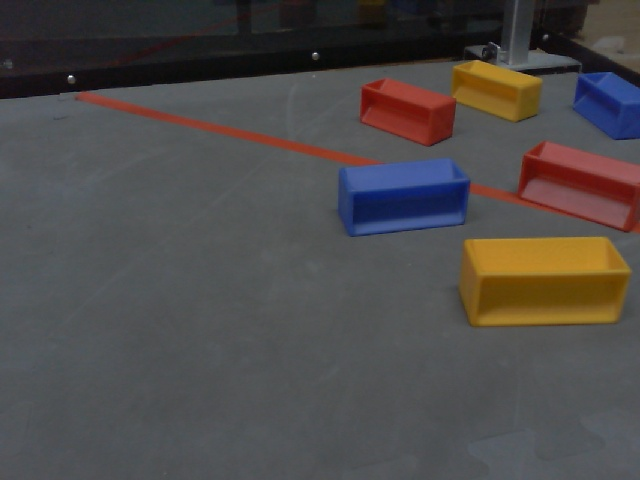BlueSample: (335, 157, 470, 238), (572, 67, 640, 144)
RedSample: (515, 138, 640, 235), (358, 78, 459, 146)
YellowSample: (458, 230, 630, 335), (448, 56, 547, 126)
